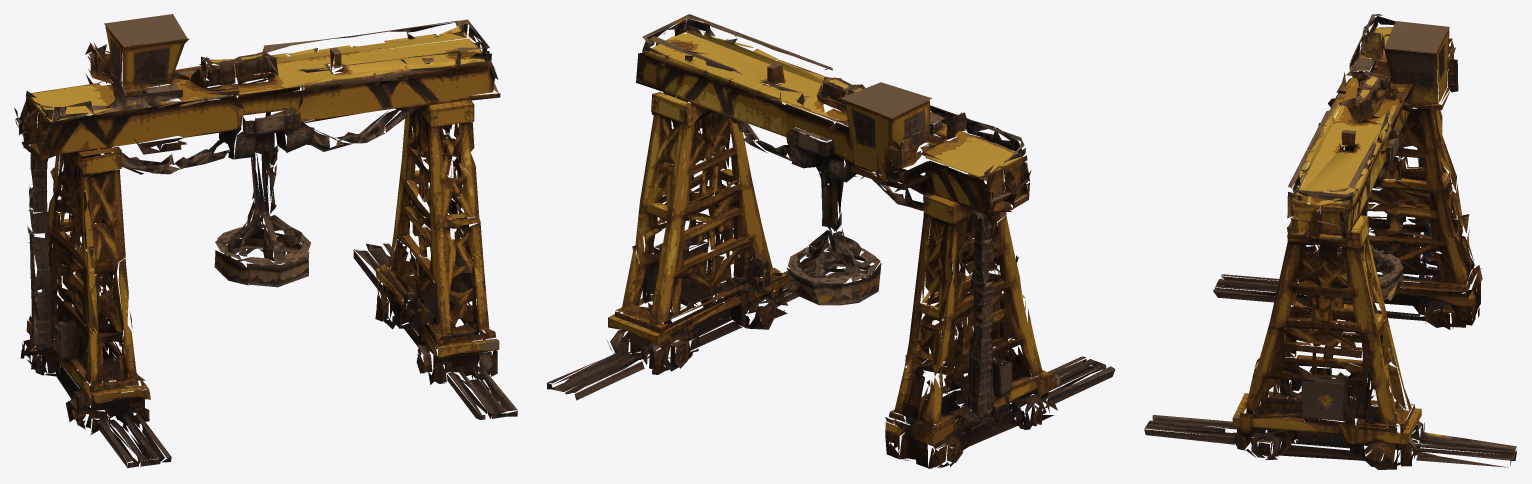
The model's file is yd_gantry.glb.
3 views of the same model, side by side, from view 1: azimuth 30°, elevation 25°; view 2: azimuth 150°, elevation 25°; view 3: azimuth 270°, elevation 25° (orthographic). The views are drawn at different scales.
Visible parts, largest first — view 1: yd_gantry; view 2: yd_gantry; view 3: yd_gantry.
Part boxes in pixels (bbox=[...]): yd_gantry: bbox=[14, 14, 517, 468]; yd_gantry: bbox=[547, 14, 1115, 468]; yd_gantry: bbox=[1144, 14, 1516, 469].
Bounding box in the file's own units: 9.03 × 7.03 × 7.59.
1 material, 1 textured.
